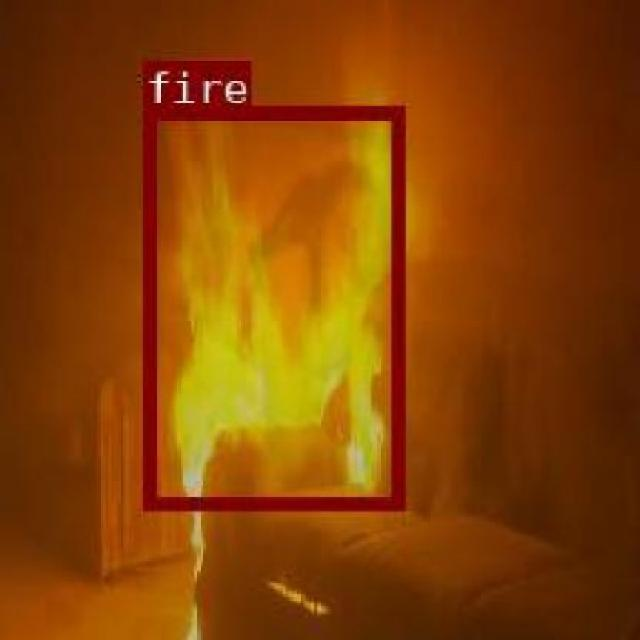Fire: (143, 104, 402, 508)
